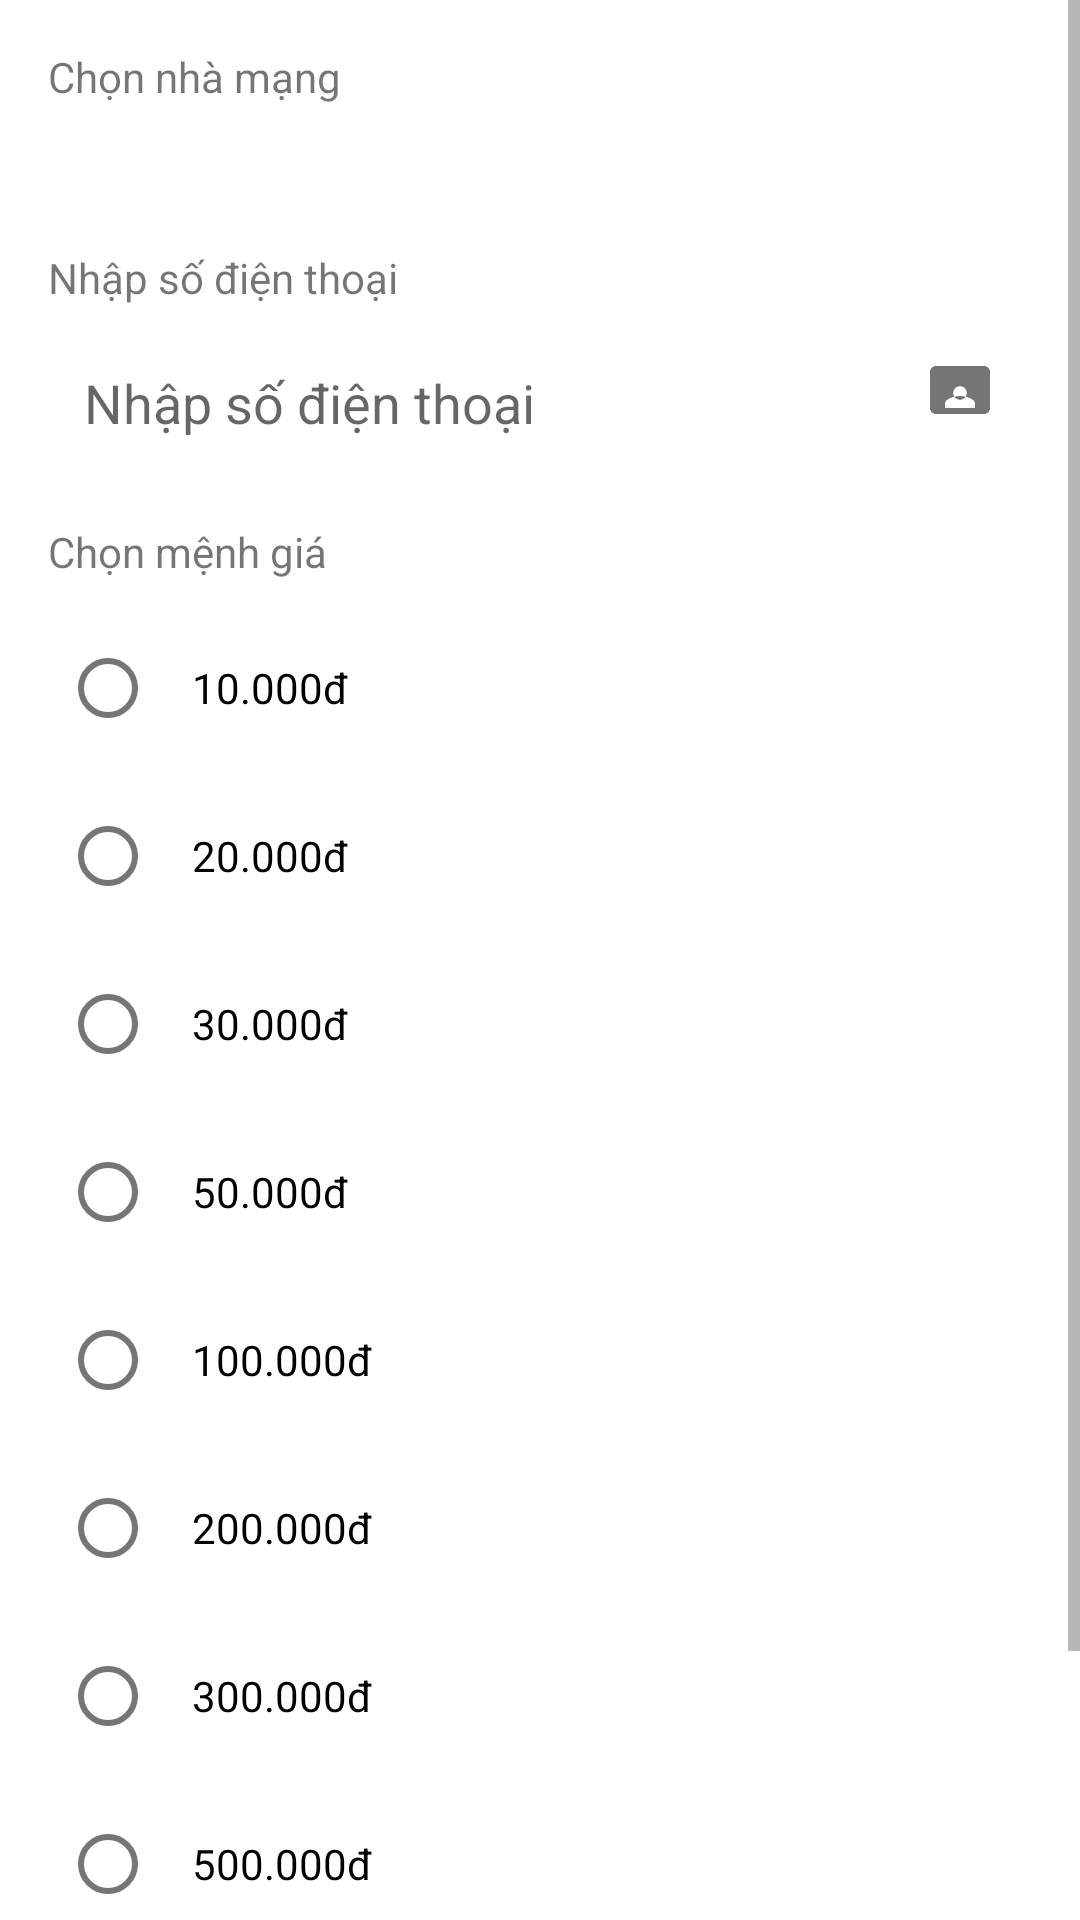

Locate icon controls on the screen. Image size 1080x1920, boxes as (x1, y1, x2, y2).
contacts: (930, 366, 990, 414)
